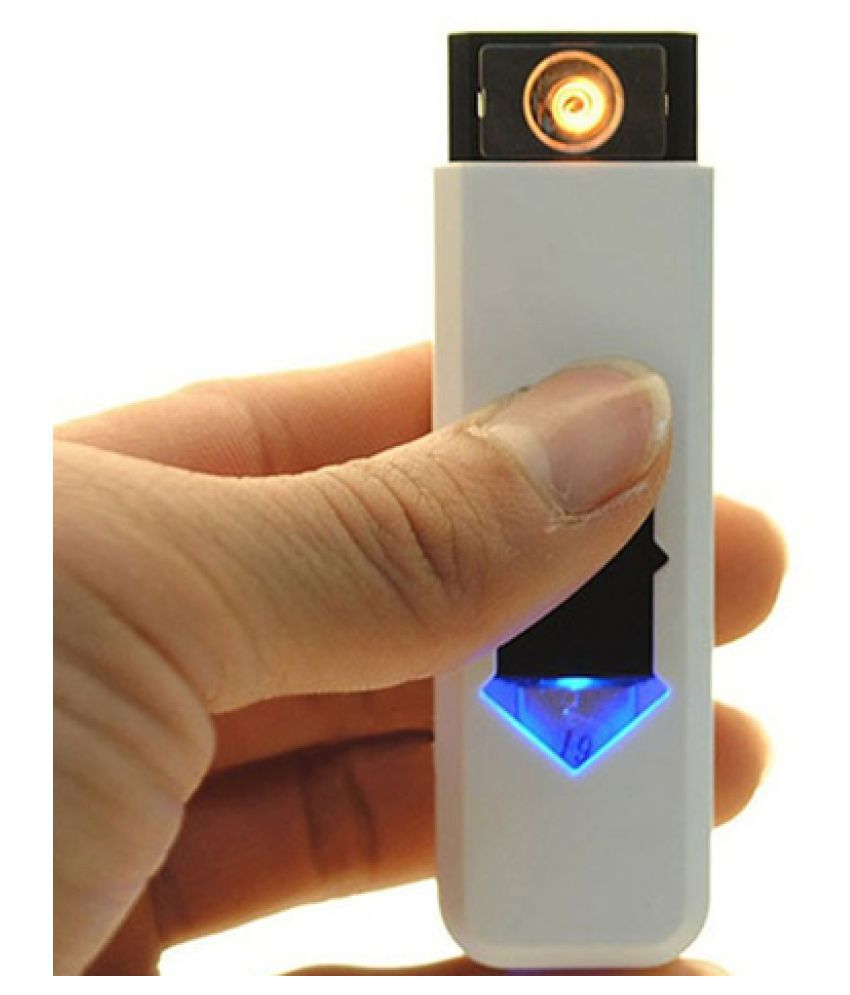Nonrec_Other: (410, 3, 770, 962)
